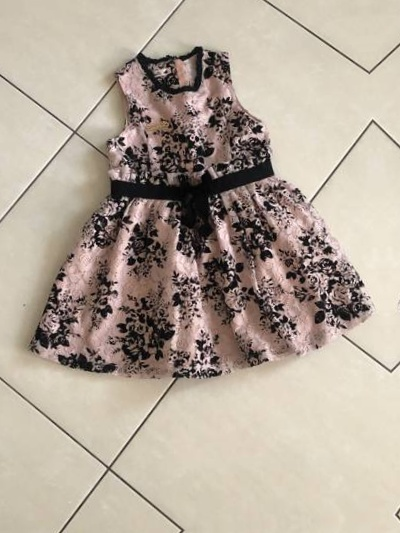Dress: (0, 32, 363, 410), (396, 3, 400, 381)
